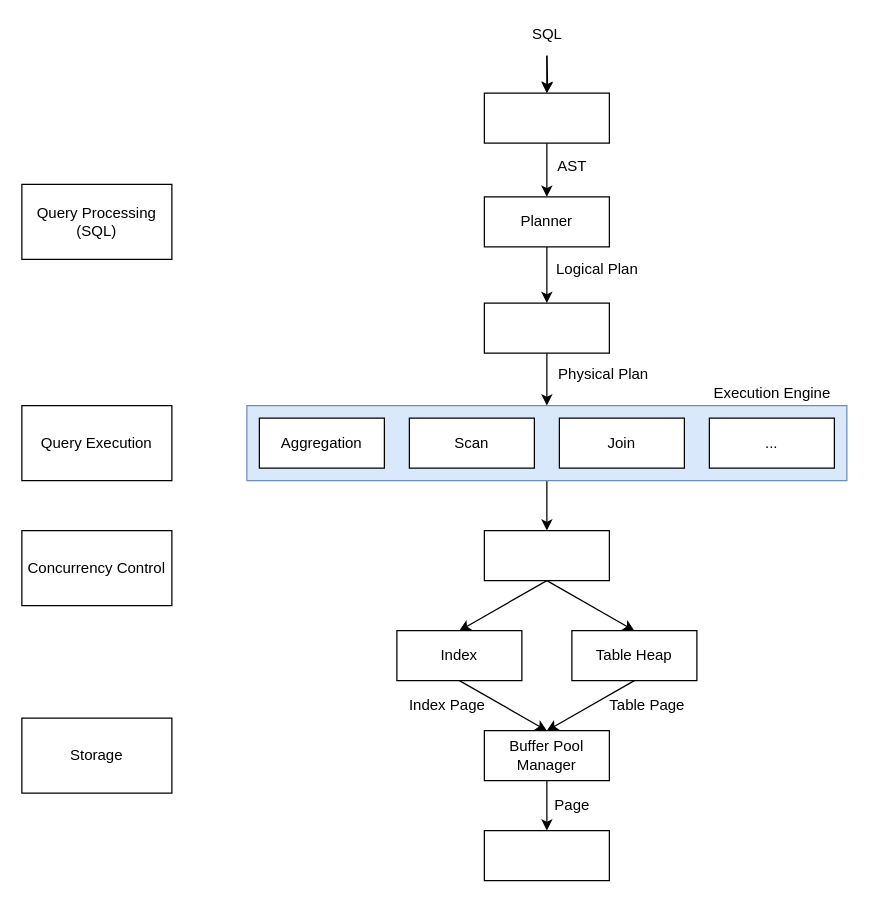
This 869x903 diagram has some shape labels left out. Each missing label, with the centre of its shape:
"Disk Manager" belongs at point (546, 855).
"Optimizer" belongs at point (546, 327).
"Parser" belongs at point (546, 117).
"Transaction Manager" belongs at point (546, 555).
